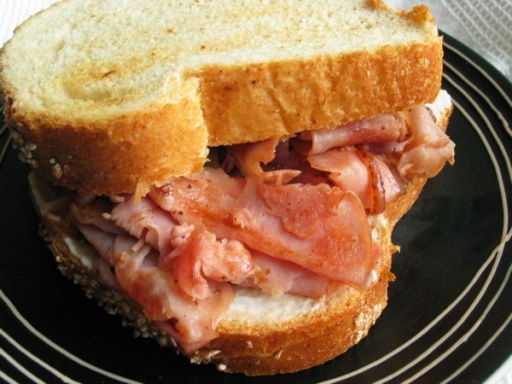background: (0, 0, 365, 226)
